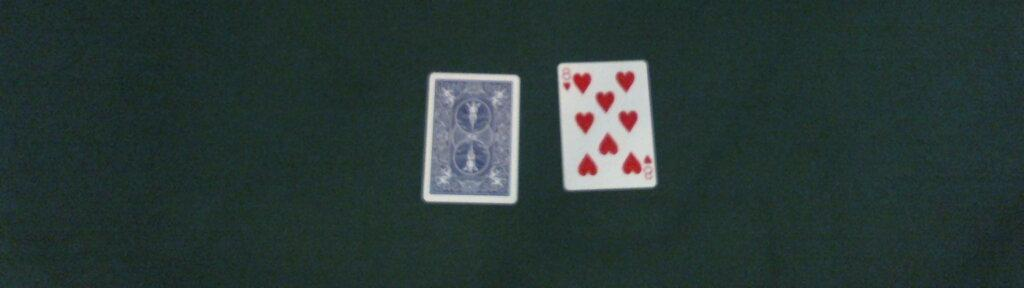back: (421, 72, 522, 205)
eight: (555, 59, 658, 191)
